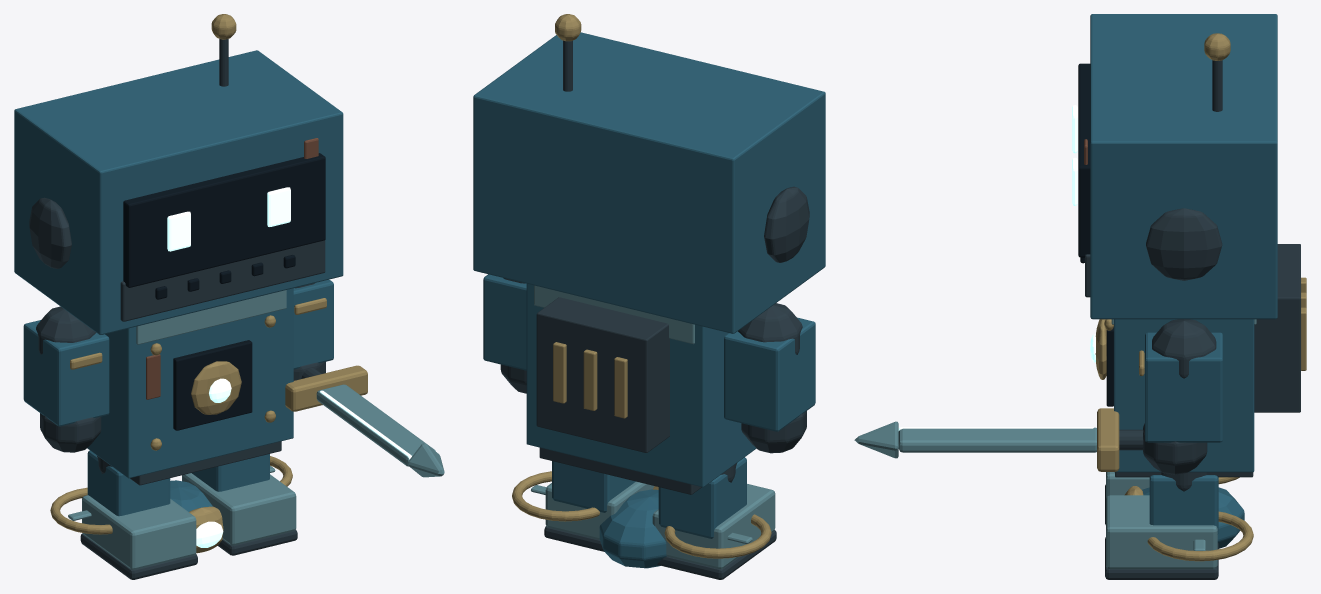
File: last-machine.glb
3 renders of one model, left to right at view 1: azimuth 30°, elevation 25°; view 2: azimuth 150°, elevation 25°; view 3: azimuth 270°, elevation 25°, orthographic. The views are drawn at different scales.
Visible parts, largest first — view 1: robot_head, robot_chest, robot_arm_left, robot_leg_left, robot_leg_right, robot_sword, robot_arm_right, drone_housing, robot_eyes, drone_eye; view 2: robot_head, robot_chest, robot_arm_left, robot_leg_left, drone_housing, robot_leg_right, robot_arm_right; view 3: robot_head, robot_chest, robot_arm_right, robot_leg_right, robot_sword, drone_housing, robot_leg_left, robot_eyes.
Part boxes in pixels (bbox=[...]): robot_head: bbox=[14, 14, 343, 334]; robot_chest: bbox=[87, 288, 293, 485]; robot_arm_left: bbox=[23, 306, 109, 452]; robot_leg_left: bbox=[80, 450, 197, 579]; robot_leg_right: bbox=[182, 454, 297, 555]; robot_sword: bbox=[285, 365, 444, 477]; robot_arm_right: bbox=[293, 279, 333, 380]; drone_housing: bbox=[50, 456, 292, 553]; robot_eyes: bbox=[167, 187, 290, 251]; drone_eye: bbox=[196, 521, 223, 547]; robot_head: bbox=[473, 14, 825, 333]; robot_chest: bbox=[526, 283, 756, 494]; robot_arm_left: bbox=[724, 303, 815, 453]; robot_leg_left: bbox=[652, 457, 776, 579]; drone_housing: bbox=[512, 471, 771, 568]; robot_leg_right: bbox=[544, 461, 654, 551]; robot_arm_right: bbox=[483, 274, 526, 393]; robot_head: bbox=[1078, 14, 1277, 319]; robot_chest: bbox=[1095, 244, 1306, 477]; robot_arm_right: bbox=[1139, 319, 1222, 474]; robot_leg_right: bbox=[1105, 472, 1218, 579]; robot_sword: bbox=[854, 408, 1143, 471]; drone_housing: bbox=[1124, 477, 1253, 561]; robot_leg_left: bbox=[1105, 472, 1149, 524]; robot_eyes: bbox=[1072, 105, 1077, 205].
Bounding box in the file's own units: 1.64 × 2.72 × 2.03.
